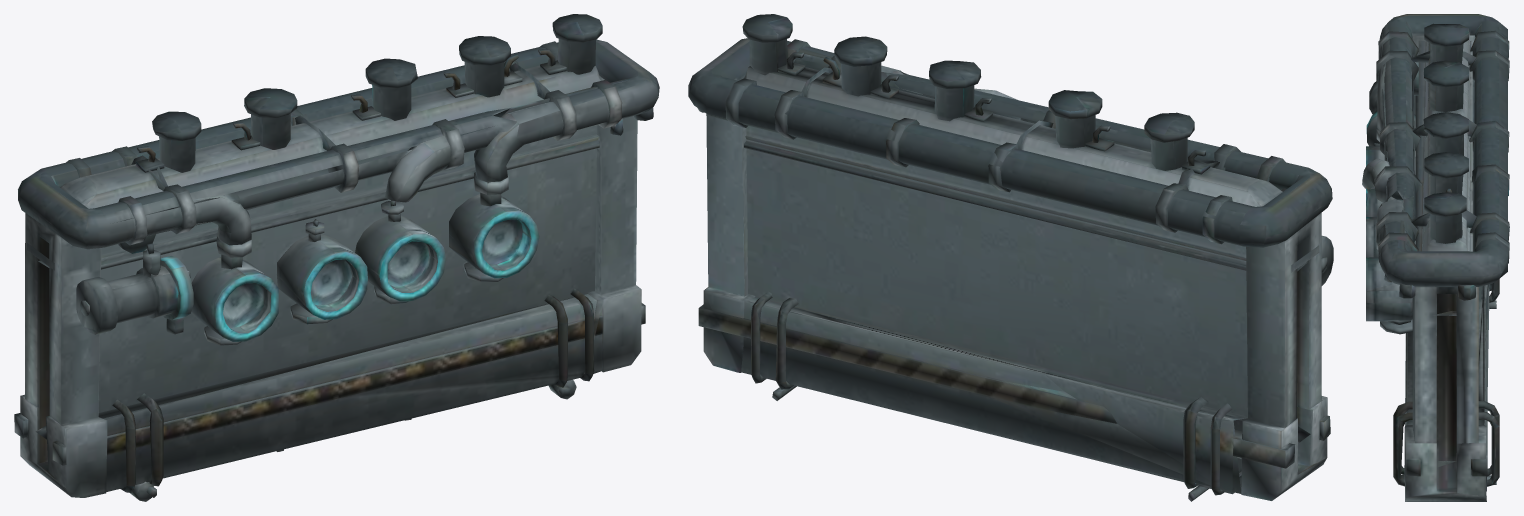
Rendered from coolant-pipe-wall.glb.
3 views of the same model, side by side, from view 1: azimuth 30°, elevation 25°; view 2: azimuth 150°, elevation 25°; view 3: azimuth 270°, elevation 25° (orthographic). The views are drawn at different scales.
Bounding box in the file's own units: 1 × 0.5624 × 0.2455.
Materials: 1 (1 with a texture image).
